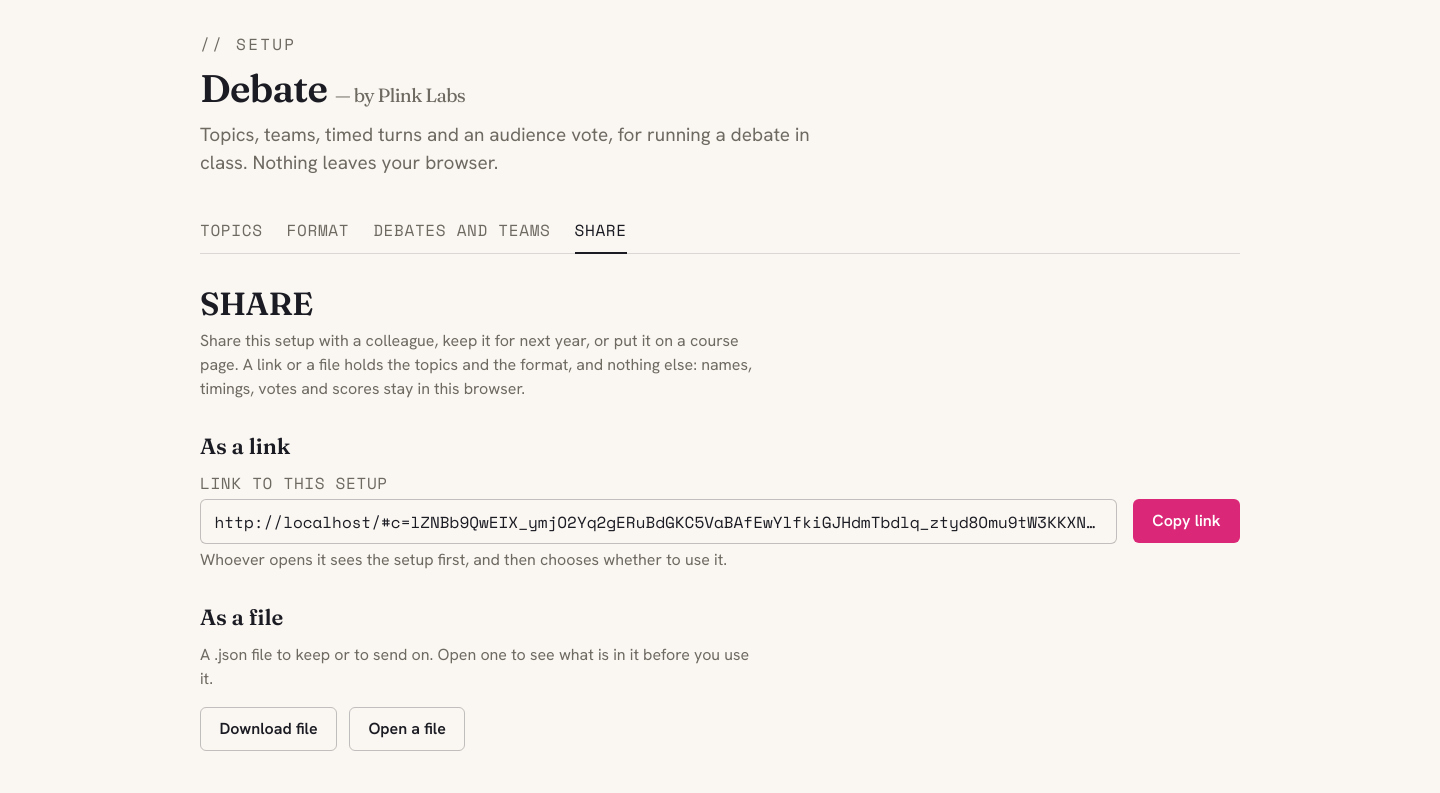
Test: the share panel › selects the link for copying by hand when the browser has no clipboard
Step 1. Click the button "Copy link" → (1186, 521), box x1=1133 y1=499 x2=1240 y2=543
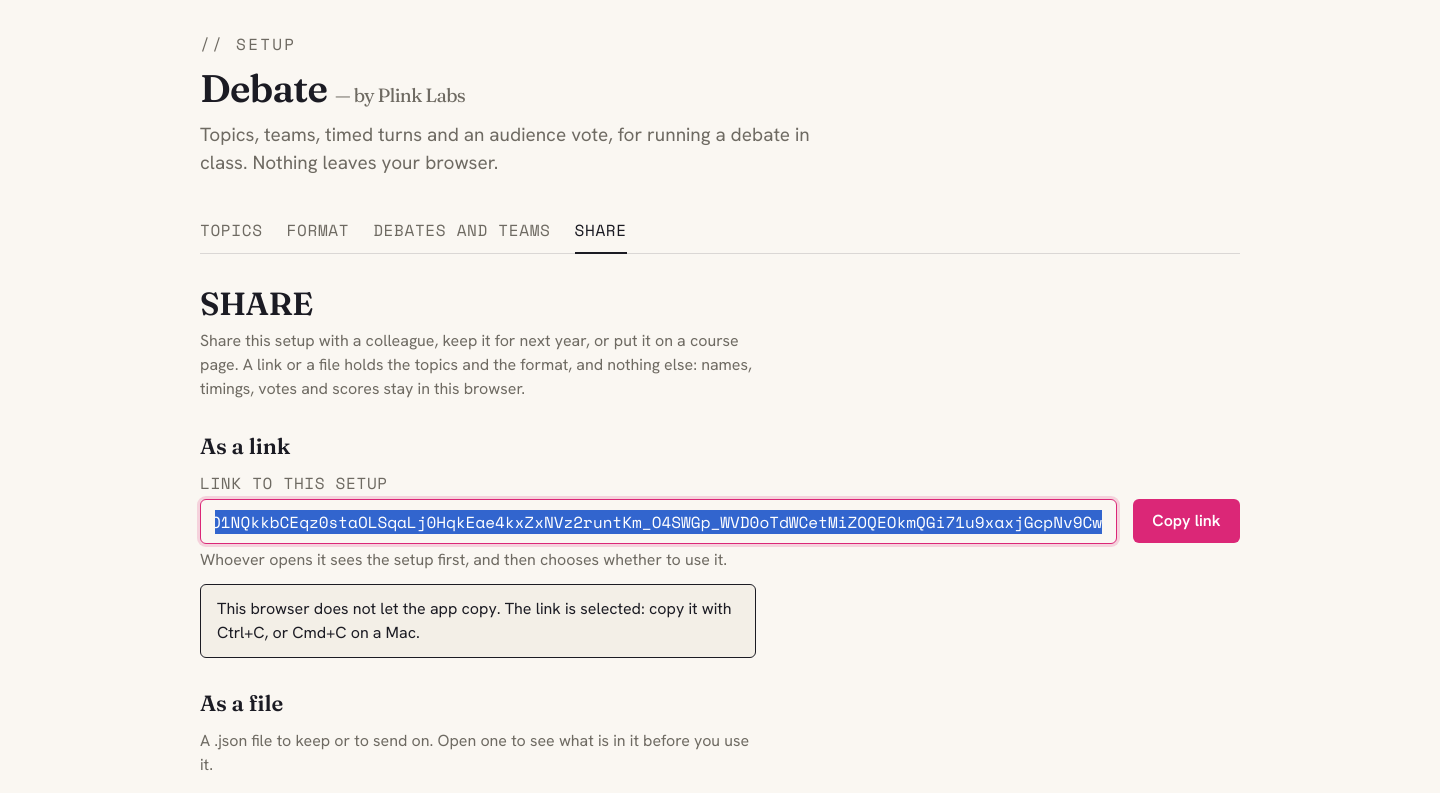
Result: the message shows "This browser does not let the app copy. The link is selected: copy it with Ctrl+C, or Cmd+C on a Mac." at x1=217 y1=598 x2=732 y2=644
